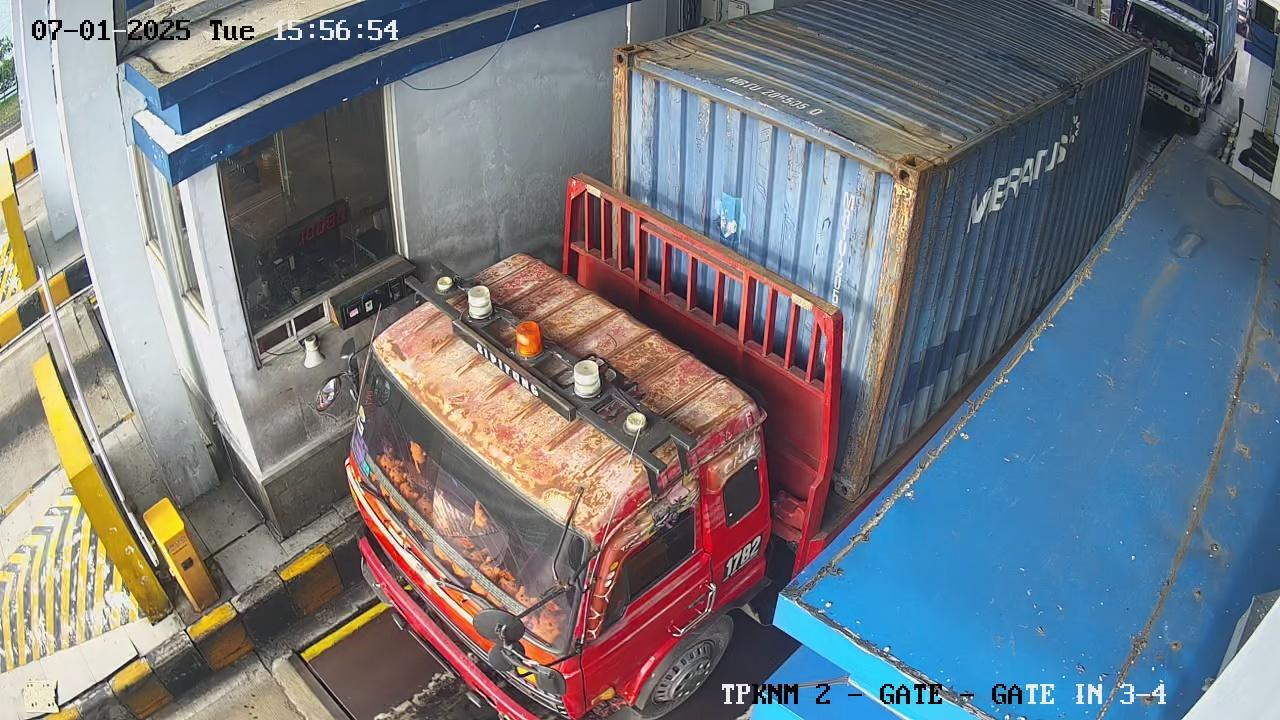Container_ID: (709, 75, 837, 133)
Container_ID_Vertikal: (823, 171, 867, 307)
truck_id: (722, 524, 768, 584)
